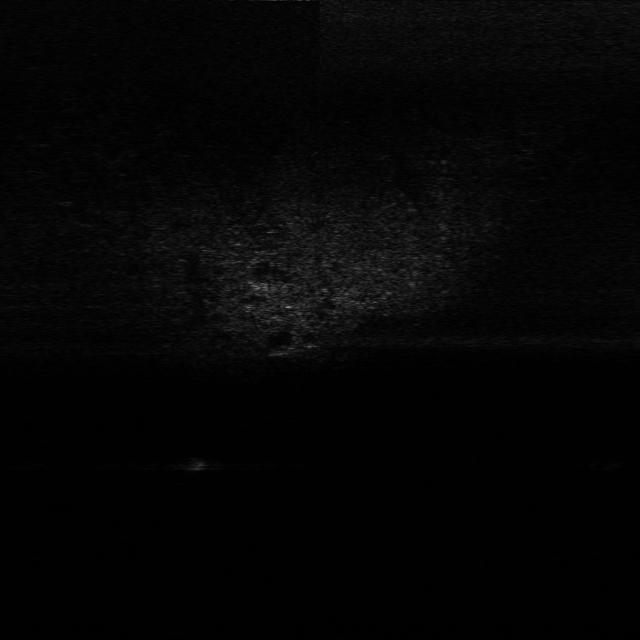cylinder: (183, 453, 212, 475)
